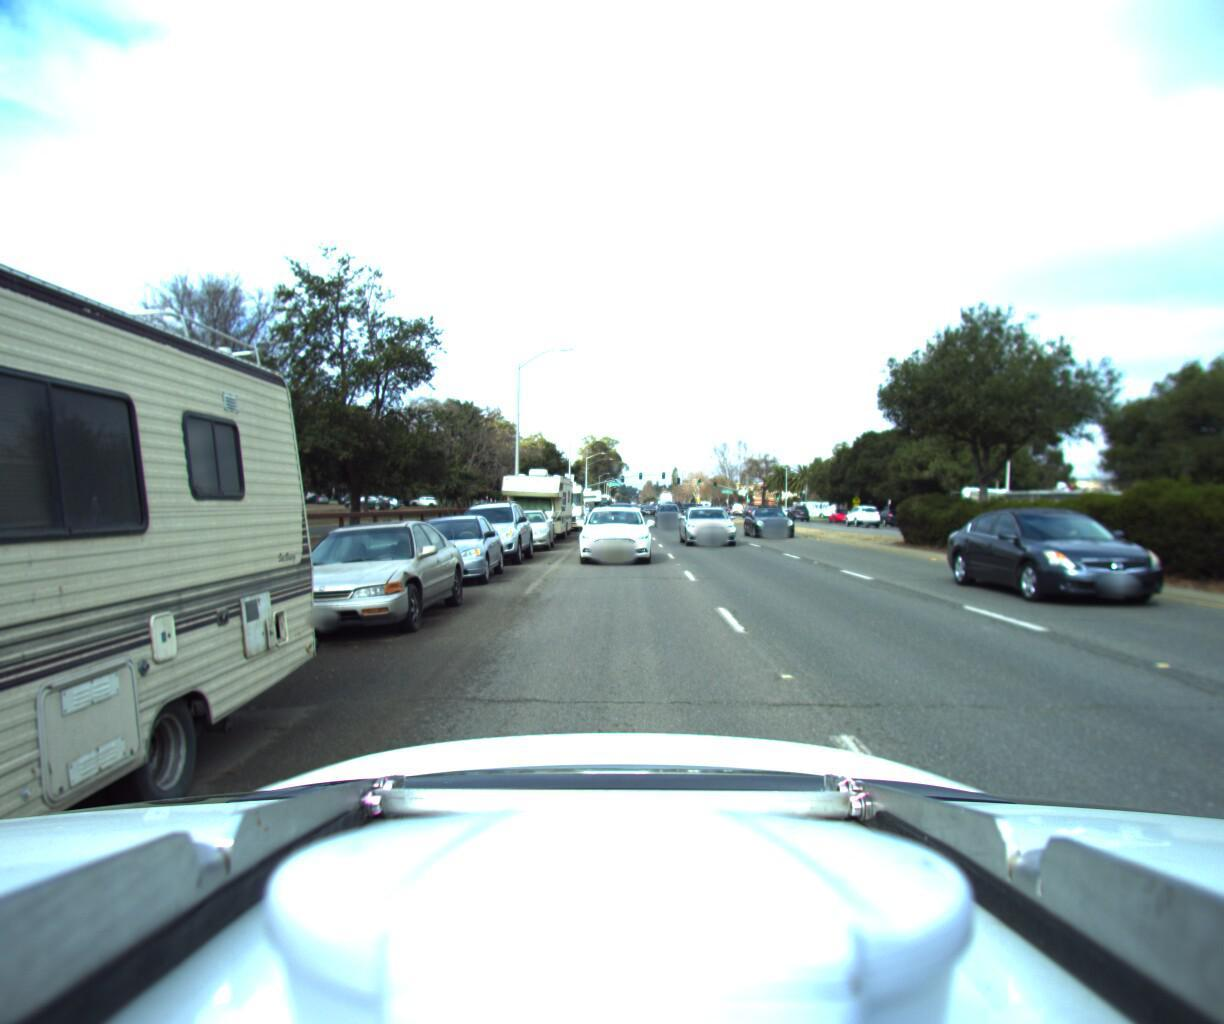car: (235, 510, 479, 653), (966, 502, 1224, 624), (393, 507, 513, 594), (444, 493, 539, 564), (577, 495, 655, 565), (494, 501, 557, 552), (677, 499, 745, 546), (745, 499, 802, 536), (653, 497, 686, 524), (839, 498, 877, 521), (823, 502, 851, 520)
other_vehicle: (490, 461, 578, 539), (537, 469, 586, 530), (570, 482, 606, 514)
truck: (927, 448, 1155, 536)
